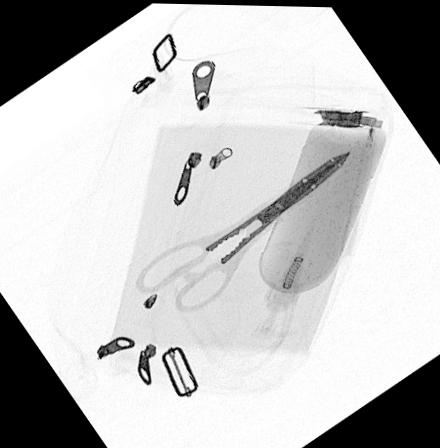Scissors: (132, 147, 353, 314)
